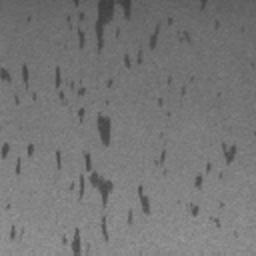Red iron sheet: (0, 0, 209, 256), (191, 138, 238, 216), (156, 83, 188, 108), (9, 224, 17, 241), (160, 148, 166, 163)
